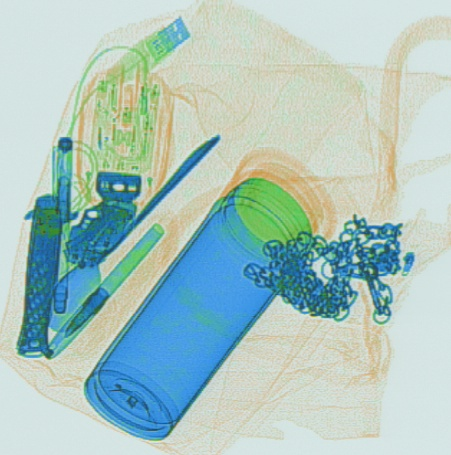knife: (16, 196, 67, 360), (62, 183, 139, 266)
